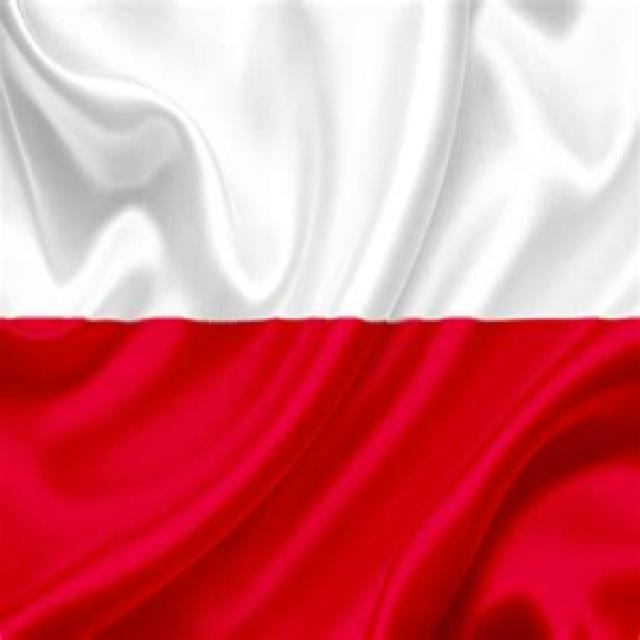poland: (6, 20, 530, 640)
